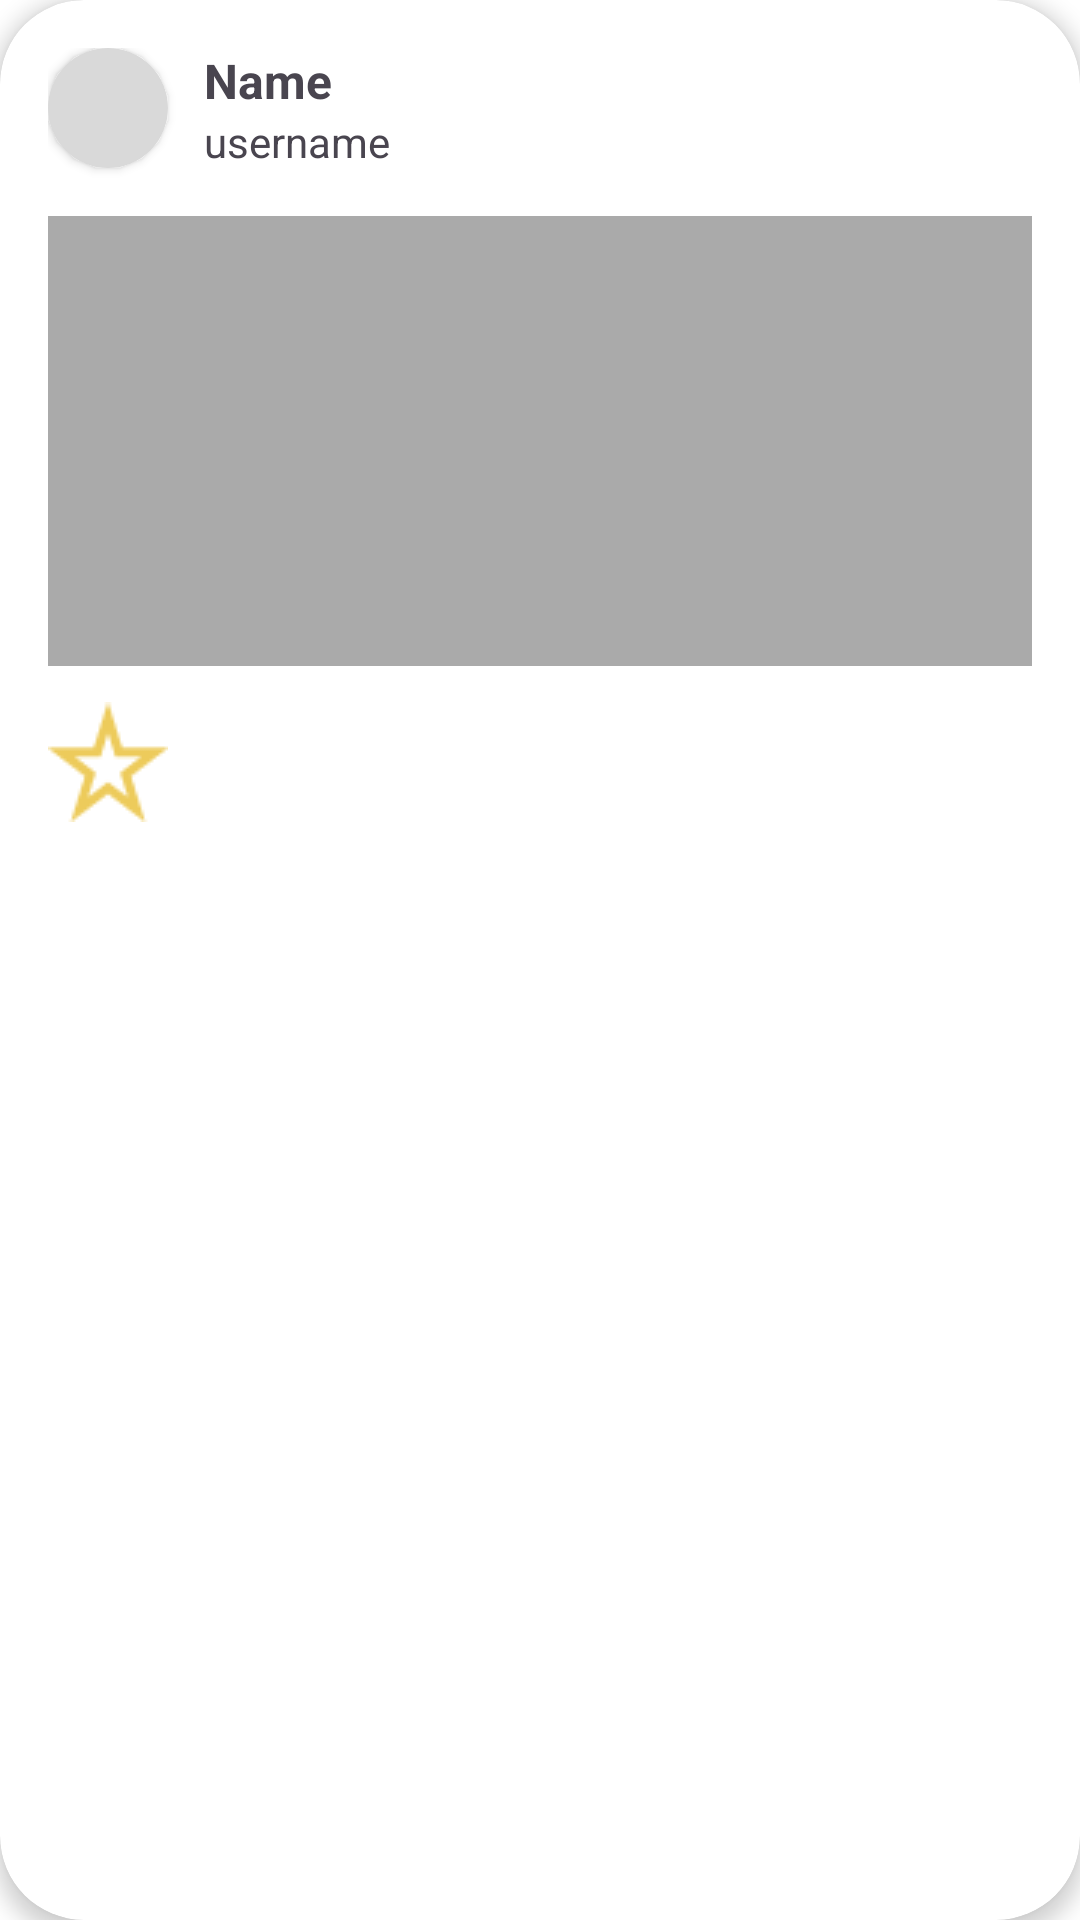

Icon click points for this 1080*1920 phone screenshot, format (x=x, y=y):
Star button: (x=108, y=762)
